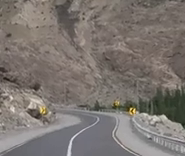right: (64, 99, 136, 142)
